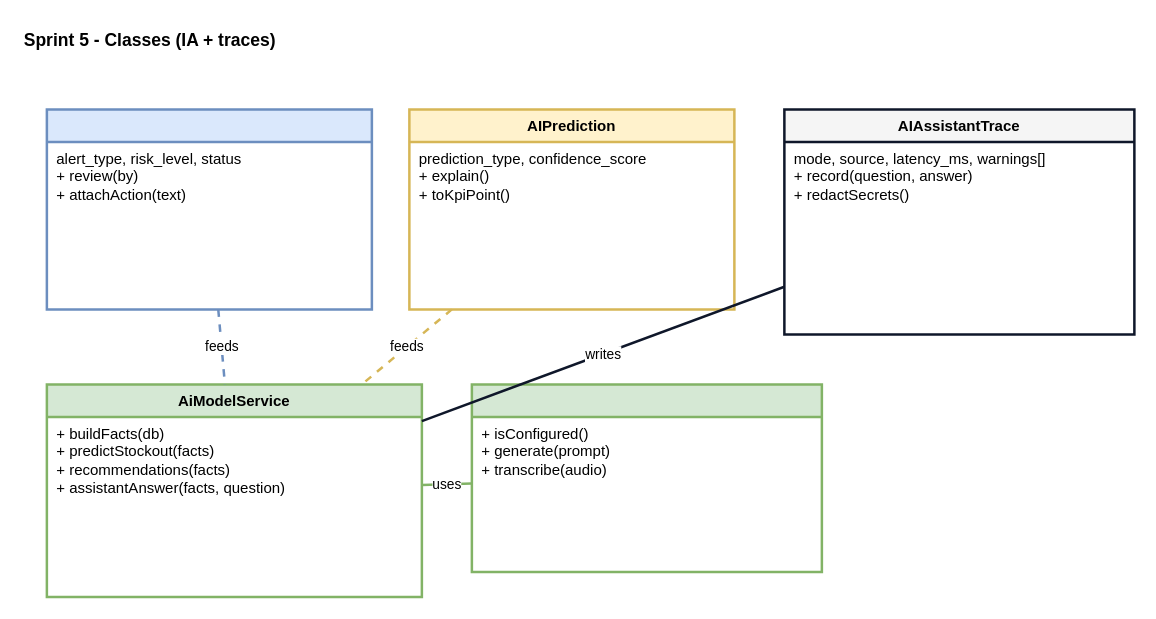
Some shapes in this 1156 by 619 pixel diagram are drawn without their labels. The box of each missing label's shape, as (x1, y1, x2, y2) in pixels:
AIAlert: (45, 108, 372, 310)
GeminiService (opt): (470, 382, 822, 572)
